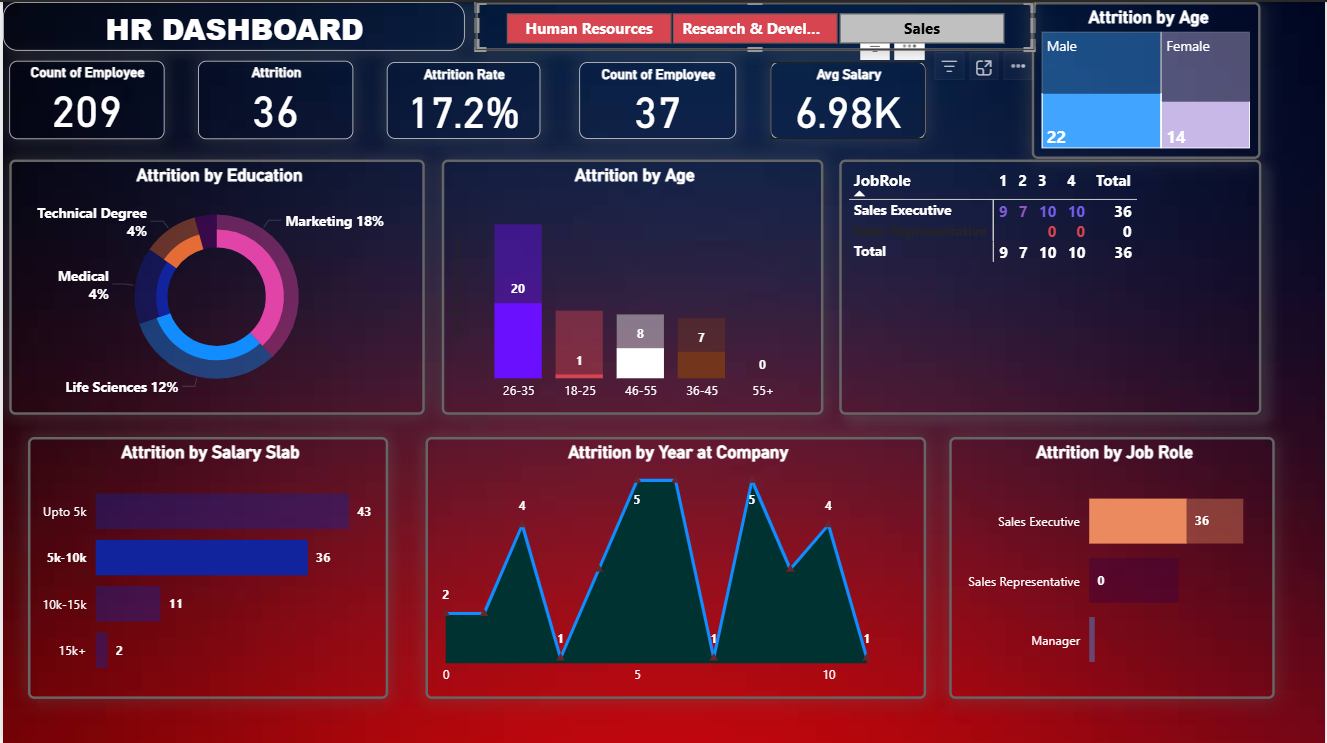

The dashboard page shown, as its layout file describes it:
{"tool":"powerbi","page":{"name":"Page 1","canvas":[1280,720],"ordinal":0},"visuals":[{"type":"card","title":"Count of Employee","fields":{"Values":["CountNonNull(HR_Analytics.EmpID)"]},"box":[6.1,57,150.5,76.1],"z":0},{"type":"card","title":"Attrition","fields":{"Values":["Sum(HR_Analytics.AttritionCount)"]},"box":[189,57,150.5,76.1],"z":1000},{"type":"card","title":"Count of Employee","fields":{"Values":["Avg(HR_Analytics.Age)"]},"box":[558,58.6,152.1,74.4],"z":2000},{"type":"card","title":"Attrition Rate","fields":{"Values":["HR_Analytics.AttritionRate"]},"box":[371.9,58.6,148.9,74.4],"z":3000},{"type":"card","title":"Avg Salary","fields":{"Values":["Avg(HR_Analytics.MonthlyIncome)"]},"box":[743.2,58.6,150.5,74.5],"z":4000},{"type":"donutChart","title":"Attrition by Education","fields":{"Y":["Sum(HR_Analytics.AttritionCount)"],"Category":["HR_Analytics.EducationField"]},"box":[6.3,152.1,402.5,247.2],"z":5000},{"type":"textbox","title":"HR DASHBOARD","box":[0,0,446.8,47.5],"z":6000},{"type":"clusteredColumnChart","title":"Attrition by Age","fields":{"Category":["HR_Analytics.AgeGroup"],"Y":["Sum(HR_Analytics.AttritionCount)"]},"box":[424.7,152.1,369.2,247.2],"z":7000},{"type":"pivotTable","fields":{"Columns":["HR_Analytics.JobSatisfaction"],"Values":["Sum(HR_Analytics.AttritionCount)"],"Rows":["HR_Analytics.JobRole"]},"box":[809.7,152.1,408.8,247.2],"z":8000},{"type":"barChart","title":"Attrition by Salary Slab","fields":{"Category":["HR_Analytics.SalarySlab"],"Y":["Sum(HR_Analytics.AttritionCount)"]},"box":[23.8,421.5,348.6,253.5],"z":9000},{"type":"barChart","title":"Attrition by Job Role","fields":{"Category":["HR_Analytics.JobRole"],"Y":["Sum(HR_Analytics.AttritionCount)"]},"box":[915.9,421.5,315.3,253.5],"z":10000},{"type":"areaChart","title":"Attrition by Year at Company","fields":{"Category":["HR_Analytics.YearsAtCompany"],"Y":["Sum(HR_Analytics.AttritionCount)"]},"box":[408.8,421.5,484.9,253.5],"z":11000},{"type":"treemap","title":"Attrition by Age","fields":{"Group":["HR_Analytics.Gender"],"Values":["Sum(HR_Analytics.AttritionCount)"]},"box":[996.7,0,221.8,152.1],"z":12000},{"type":"slicer","fields":{"Values":["HR_Analytics.Department"]},"box":[457.9,0,540.3,47.5],"z":13000}]}

Visuals, with their boxes in screenshot pixels (x1, y1, x2, y2), scaled from the page's 1280x720 canvas onto the 1327x743 screenshot:
"Count of Employee" card: bbox(6, 59, 162, 137)
"Attrition" card: bbox(196, 59, 352, 137)
"Count of Employee" card: bbox(578, 60, 736, 137)
"Attrition Rate" card: bbox(386, 60, 540, 137)
"Avg Salary" card: bbox(770, 60, 927, 137)
"Attrition by Education" donutChart: bbox(7, 157, 424, 412)
"HR DASHBOARD" textbox: bbox(0, 0, 463, 49)
"Attrition by Age" clusteredColumnChart: bbox(440, 157, 823, 412)
pivotTable - HR_Analytics.JobSatisfaction x Sum(HR_Analytics.AttritionCount): bbox(839, 157, 1263, 412)
"Attrition by Salary Slab" barChart: bbox(25, 435, 386, 697)
"Attrition by Job Role" barChart: bbox(950, 435, 1276, 697)
"Attrition by Year at Company" areaChart: bbox(424, 435, 927, 697)
"Attrition by Age" treemap: bbox(1033, 0, 1263, 157)
slicer - HR_Analytics.Department: bbox(475, 0, 1035, 49)
